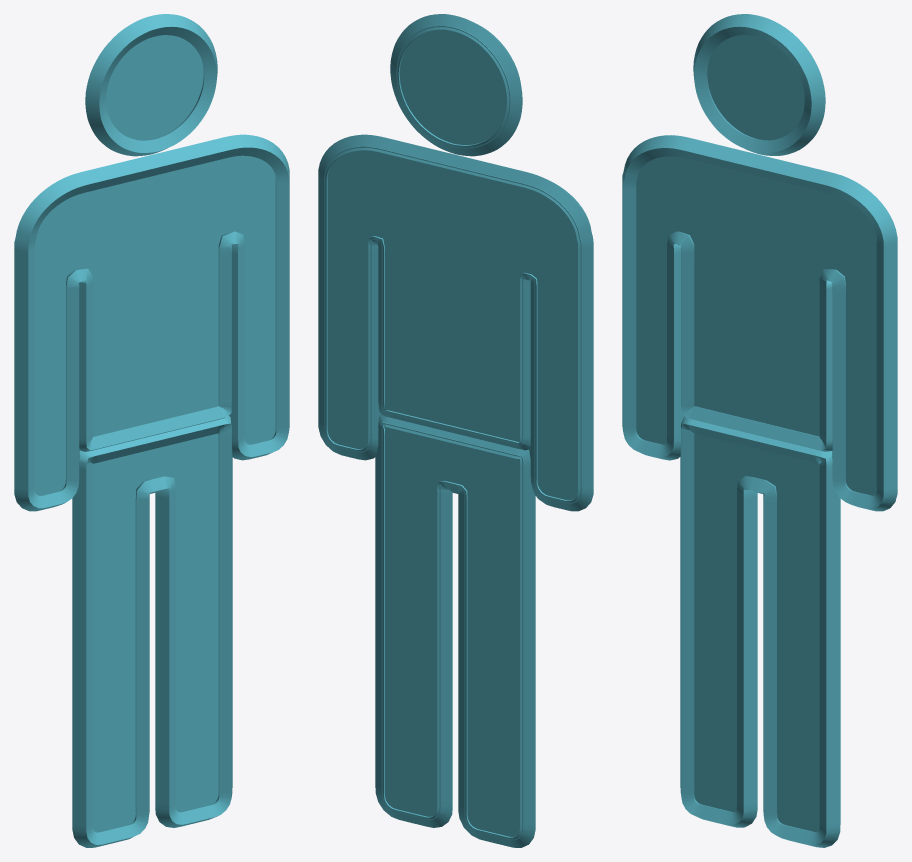
File: mensB.glb
3 views of the same model, side by side, from view 1: azimuth 30°, elevation 25°; view 2: azimuth 150°, elevation 25°; view 3: azimuth 330°, elevation 25° (orthographic).
Visible parts, largest first — view 1: City-Icons.024_18; view 2: City-Icons.024_18; view 3: City-Icons.024_18.
Part boxes in pixels (left/top/right/bottom): City-Icons.024_18: left=14, top=14, right=289, bottom=847; City-Icons.024_18: left=318, top=14, right=593, bottom=847; City-Icons.024_18: left=622, top=14, right=897, bottom=847.
Bounding box in the file's own units: 0.056 × 0.1588 × 0.00359.
